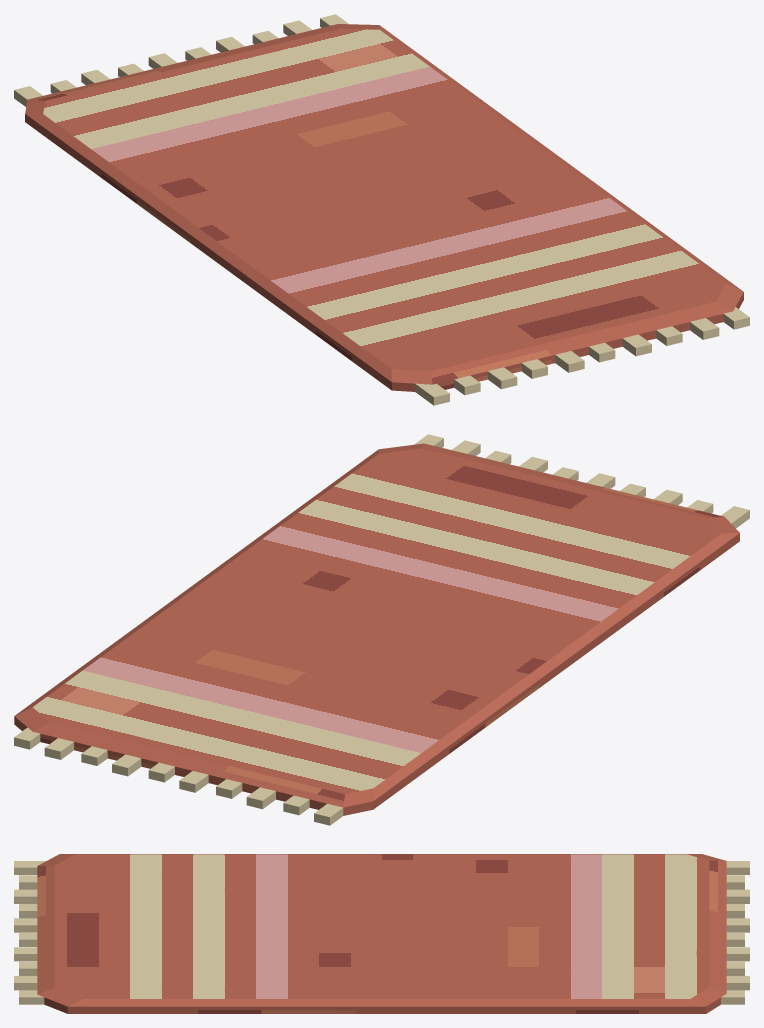
The model's file is towel-coral.glb.
3 renders of one model, top to bottom at view 1: azimuth 30°, elevation 25°; view 2: azimuth 150°, elevation 25°; view 3: azimuth 270°, elevation 25°, orthographic. The views are drawn at different scales.
Visible parts, largest first — view 1: towel-coral; view 2: towel-coral; view 3: towel-coral.
Boxes of the visible parts, <box> form: towel-coral: <box>14,14,749,405</box>; towel-coral: <box>14,434,749,825</box>; towel-coral: <box>14,854,749,1013</box>.
Bounding box in the file's own units: 0.89 × 0.03 × 1.82.
Materials: 1 (1 with a texture image).
